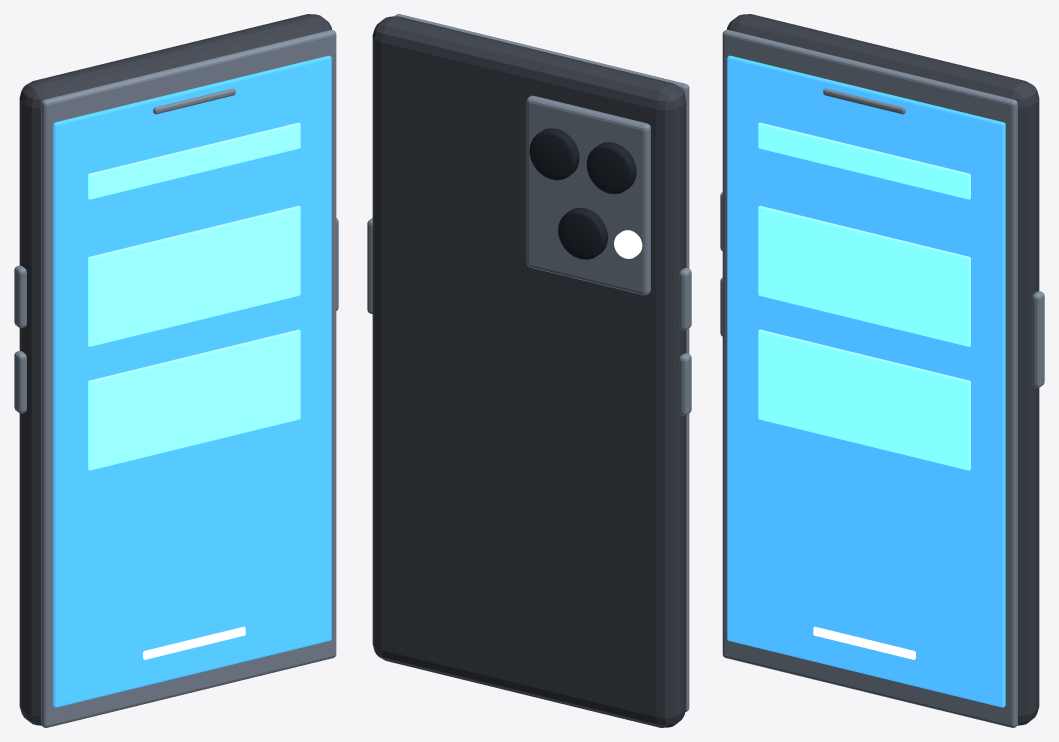
Rendered from modern_smartphone_prop.glb.
3 renders of one model, left to right at view 1: azimuth 30°, elevation 25°; view 2: azimuth 150°, elevation 25°; view 3: azimuth 330°, elevation 25°, orthographic.
Parts seen in each view (by area): view 1: Phone_OLED, Phone_FrontEdge, UI_Card_Two, UI_Card_One, Phone_Chassis, UI_Header, UI_GestureBar, VolumeDown, VolumeUp, SpeakerGrille; view 2: Phone_Chassis, Rear_CameraIsland, Phone_FrontEdge, CameraLens_1, CameraLens_2, CameraLens_3, VolumeDown, VolumeUp, CameraFlash, PowerButton; view 3: Phone_OLED, Phone_FrontEdge, Phone_Chassis, UI_Card_Two, UI_Card_One, UI_Header, PowerButton, UI_GestureBar, SpeakerGrille.
Boxes of the visible parts, left/top/right/bottom form: Phone_OLED: left=53, top=55, right=331, bottom=707; Phone_FrontEdge: left=41, top=29, right=336, bottom=727; UI_Card_Two: left=88, top=329, right=300, bottom=470; UI_Card_One: left=88, top=205, right=300, bottom=346; Phone_Chassis: left=19, top=14, right=331, bottom=725; UI_Header: left=88, top=122, right=300, bottom=199; UI_GestureBar: left=143, top=626, right=245, bottom=659; VolumeDown: left=14, top=351, right=26, bottom=413; VolumeUp: left=14, top=265, right=26, bottom=328; SpeakerGrille: left=153, top=88, right=235, bottom=114; Phone_Chassis: left=372, top=16, right=686, bottom=727; Rear_CameraIsland: left=526, top=95, right=650, bottom=295; Phone_FrontEdge: left=395, top=14, right=689, bottom=711; CameraLens_1: left=586, top=142, right=636, bottom=193; CameraLens_2: left=529, top=128, right=579, bottom=180; CameraLens_3: left=558, top=207, right=607, bottom=259; VolumeDown: left=679, top=353, right=691, bottom=415; VolumeUp: left=679, top=268, right=691, bottom=330; CameraFlash: left=614, top=230, right=642, bottom=258; PowerButton: left=367, top=218, right=372, bottom=313; Phone_OLED: left=727, top=55, right=1005, bottom=707; Phone_FrontEdge: left=722, top=29, right=1017, bottom=727; Phone_Chassis: left=727, top=14, right=1039, bottom=725; UI_Card_Two: left=758, top=329, right=970, bottom=470; UI_Card_One: left=758, top=205, right=970, bottom=346; UI_Header: left=758, top=122, right=970, bottom=199; PowerButton: left=1032, top=291, right=1044, bottom=387; UI_GestureBar: left=813, top=626, right=915, bottom=659; SpeakerGrille: left=823, top=88, right=905, bottom=114.
Size of the model in its own units: 0.0786 by 0.15 by 0.018.
